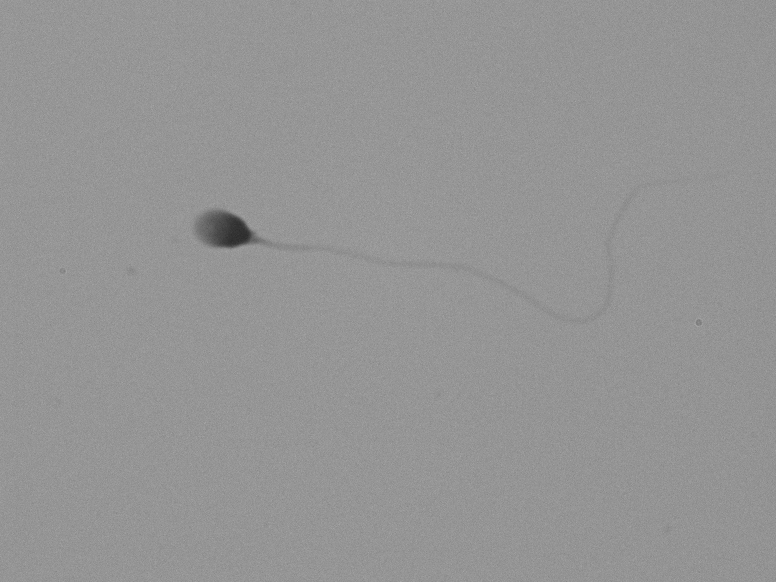Normal: (133, 121, 721, 379)
